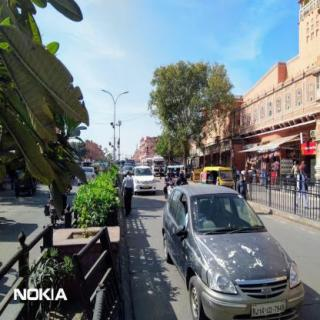Normal_vehicle: (162, 185, 304, 319)
